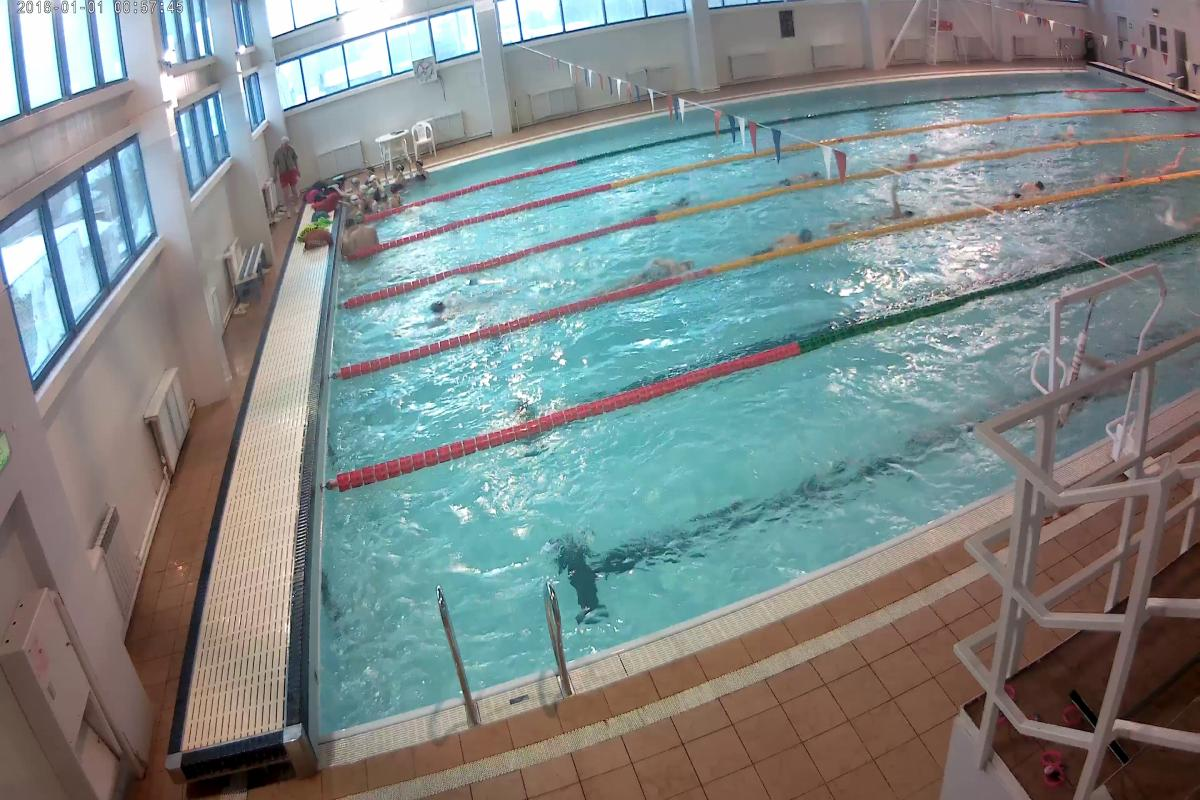swimmer: (749, 224, 813, 256), (424, 295, 483, 326), (995, 175, 1053, 201), (878, 182, 918, 219), (644, 253, 696, 280), (775, 166, 820, 187)
